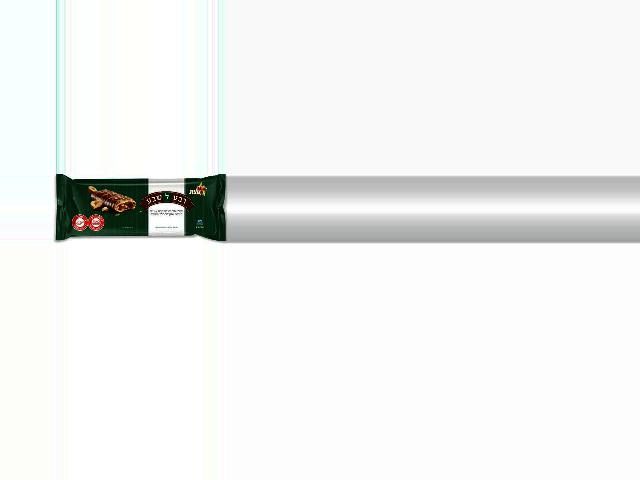chocolate: (54, 174, 228, 244)
